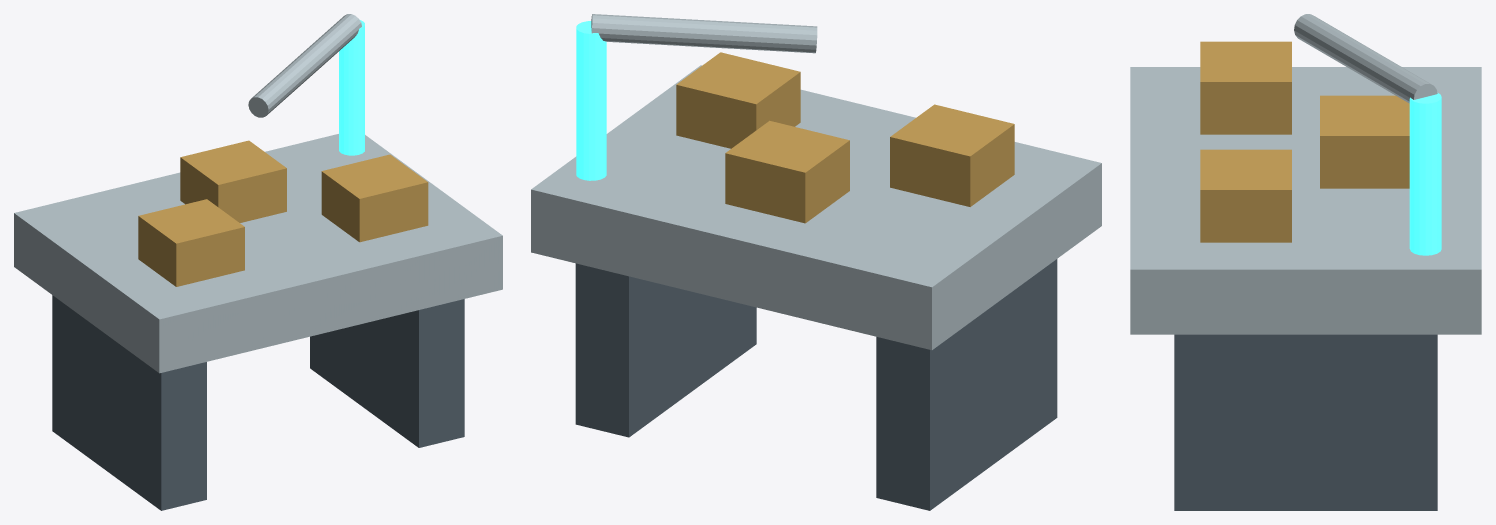
Rendered from modular-workshop.glb.
3 renders of one model, left to right at view 1: azimuth 30°, elevation 25°; view 2: azimuth 150°, elevation 25°; view 3: azimuth 270°, elevation 25°, orthographic. The views are drawn at different scales.
Parts seen in each view (by area): view 1: modular assembly table, table leg, table leg.001, swappable module.002, swappable module, swappable module.001, assembly probe, precision arm; view 2: modular assembly table, table leg, table leg.001, swappable module.001, swappable module, swappable module.002, assembly probe, precision arm; view 3: modular assembly table, table leg.001, swappable module, swappable module.002, swappable module.001, precision arm, assembly probe.
Part boxes in pixels (box(x1,y1,x2,y2)): modular assembly table: box(14, 134, 502, 373); table leg: box(52, 295, 206, 510); table leg.001: box(310, 299, 464, 447); swappable module.002: box(321, 154, 428, 242); swappable module: box(138, 199, 244, 286); swappable module.001: box(180, 140, 286, 222); assembly probe: box(248, 14, 361, 117); precision arm: box(339, 20, 364, 155); modular assembly table: box(531, 65, 1101, 350); table leg: box(876, 259, 1057, 510); table leg.001: box(575, 263, 756, 437); swappable module.001: box(725, 120, 849, 223); swappable module: box(890, 104, 1014, 206); swappable module.002: box(676, 52, 800, 148); assembly probe: box(591, 14, 817, 53); precision arm: box(576, 21, 606, 180); modular assembly table: box(1130, 67, 1481, 334); table leg.001: box(1174, 334, 1437, 510); swappable module: box(1200, 41, 1291, 134); swappable module.002: box(1200, 149, 1291, 242); swappable module.001: box(1320, 95, 1409, 188); precision arm: box(1409, 92, 1441, 255); assembly probe: box(1294, 14, 1437, 103).
Bounding box in the file's own units: 1.2 × 1.16 × 0.88.
